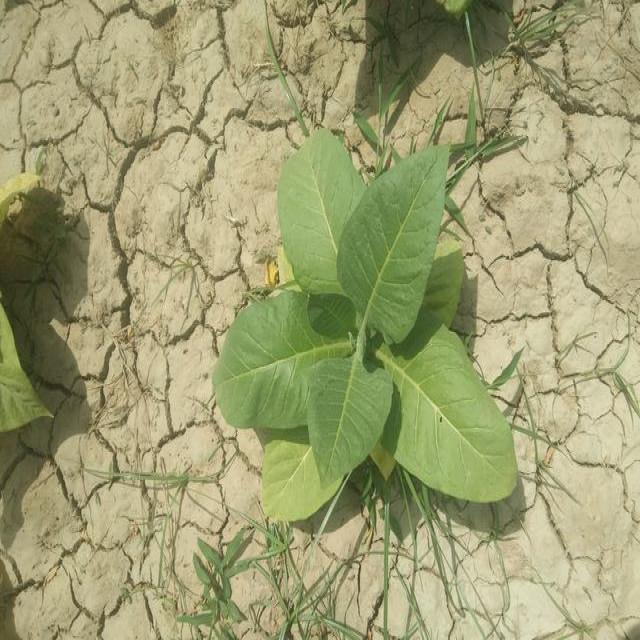crop: (220, 132, 520, 521)
